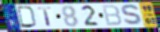2: (80, 4, 101, 27)
8: (61, 5, 80, 28)
B: (101, 4, 124, 27)
D: (16, 5, 38, 29)
S: (120, 4, 145, 27)
T: (37, 6, 54, 27)
